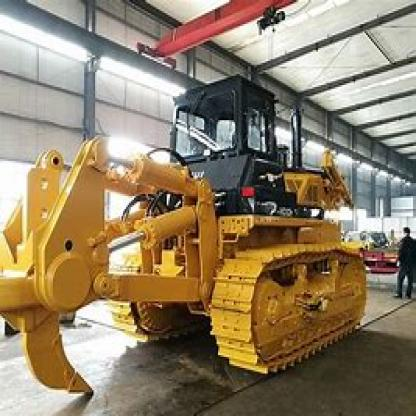bull_dozer/loader/grader: (8, 66, 375, 405)
